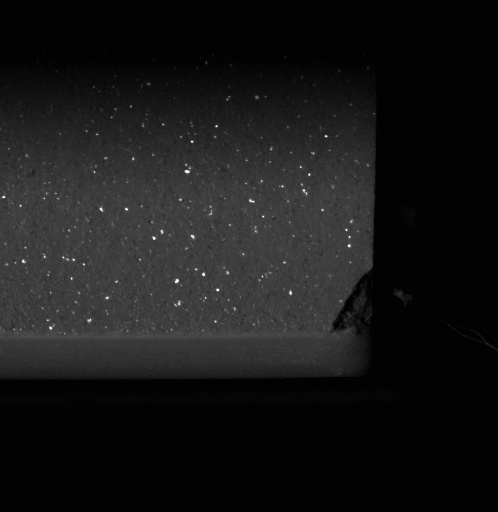bengque: (329, 269, 378, 338)
